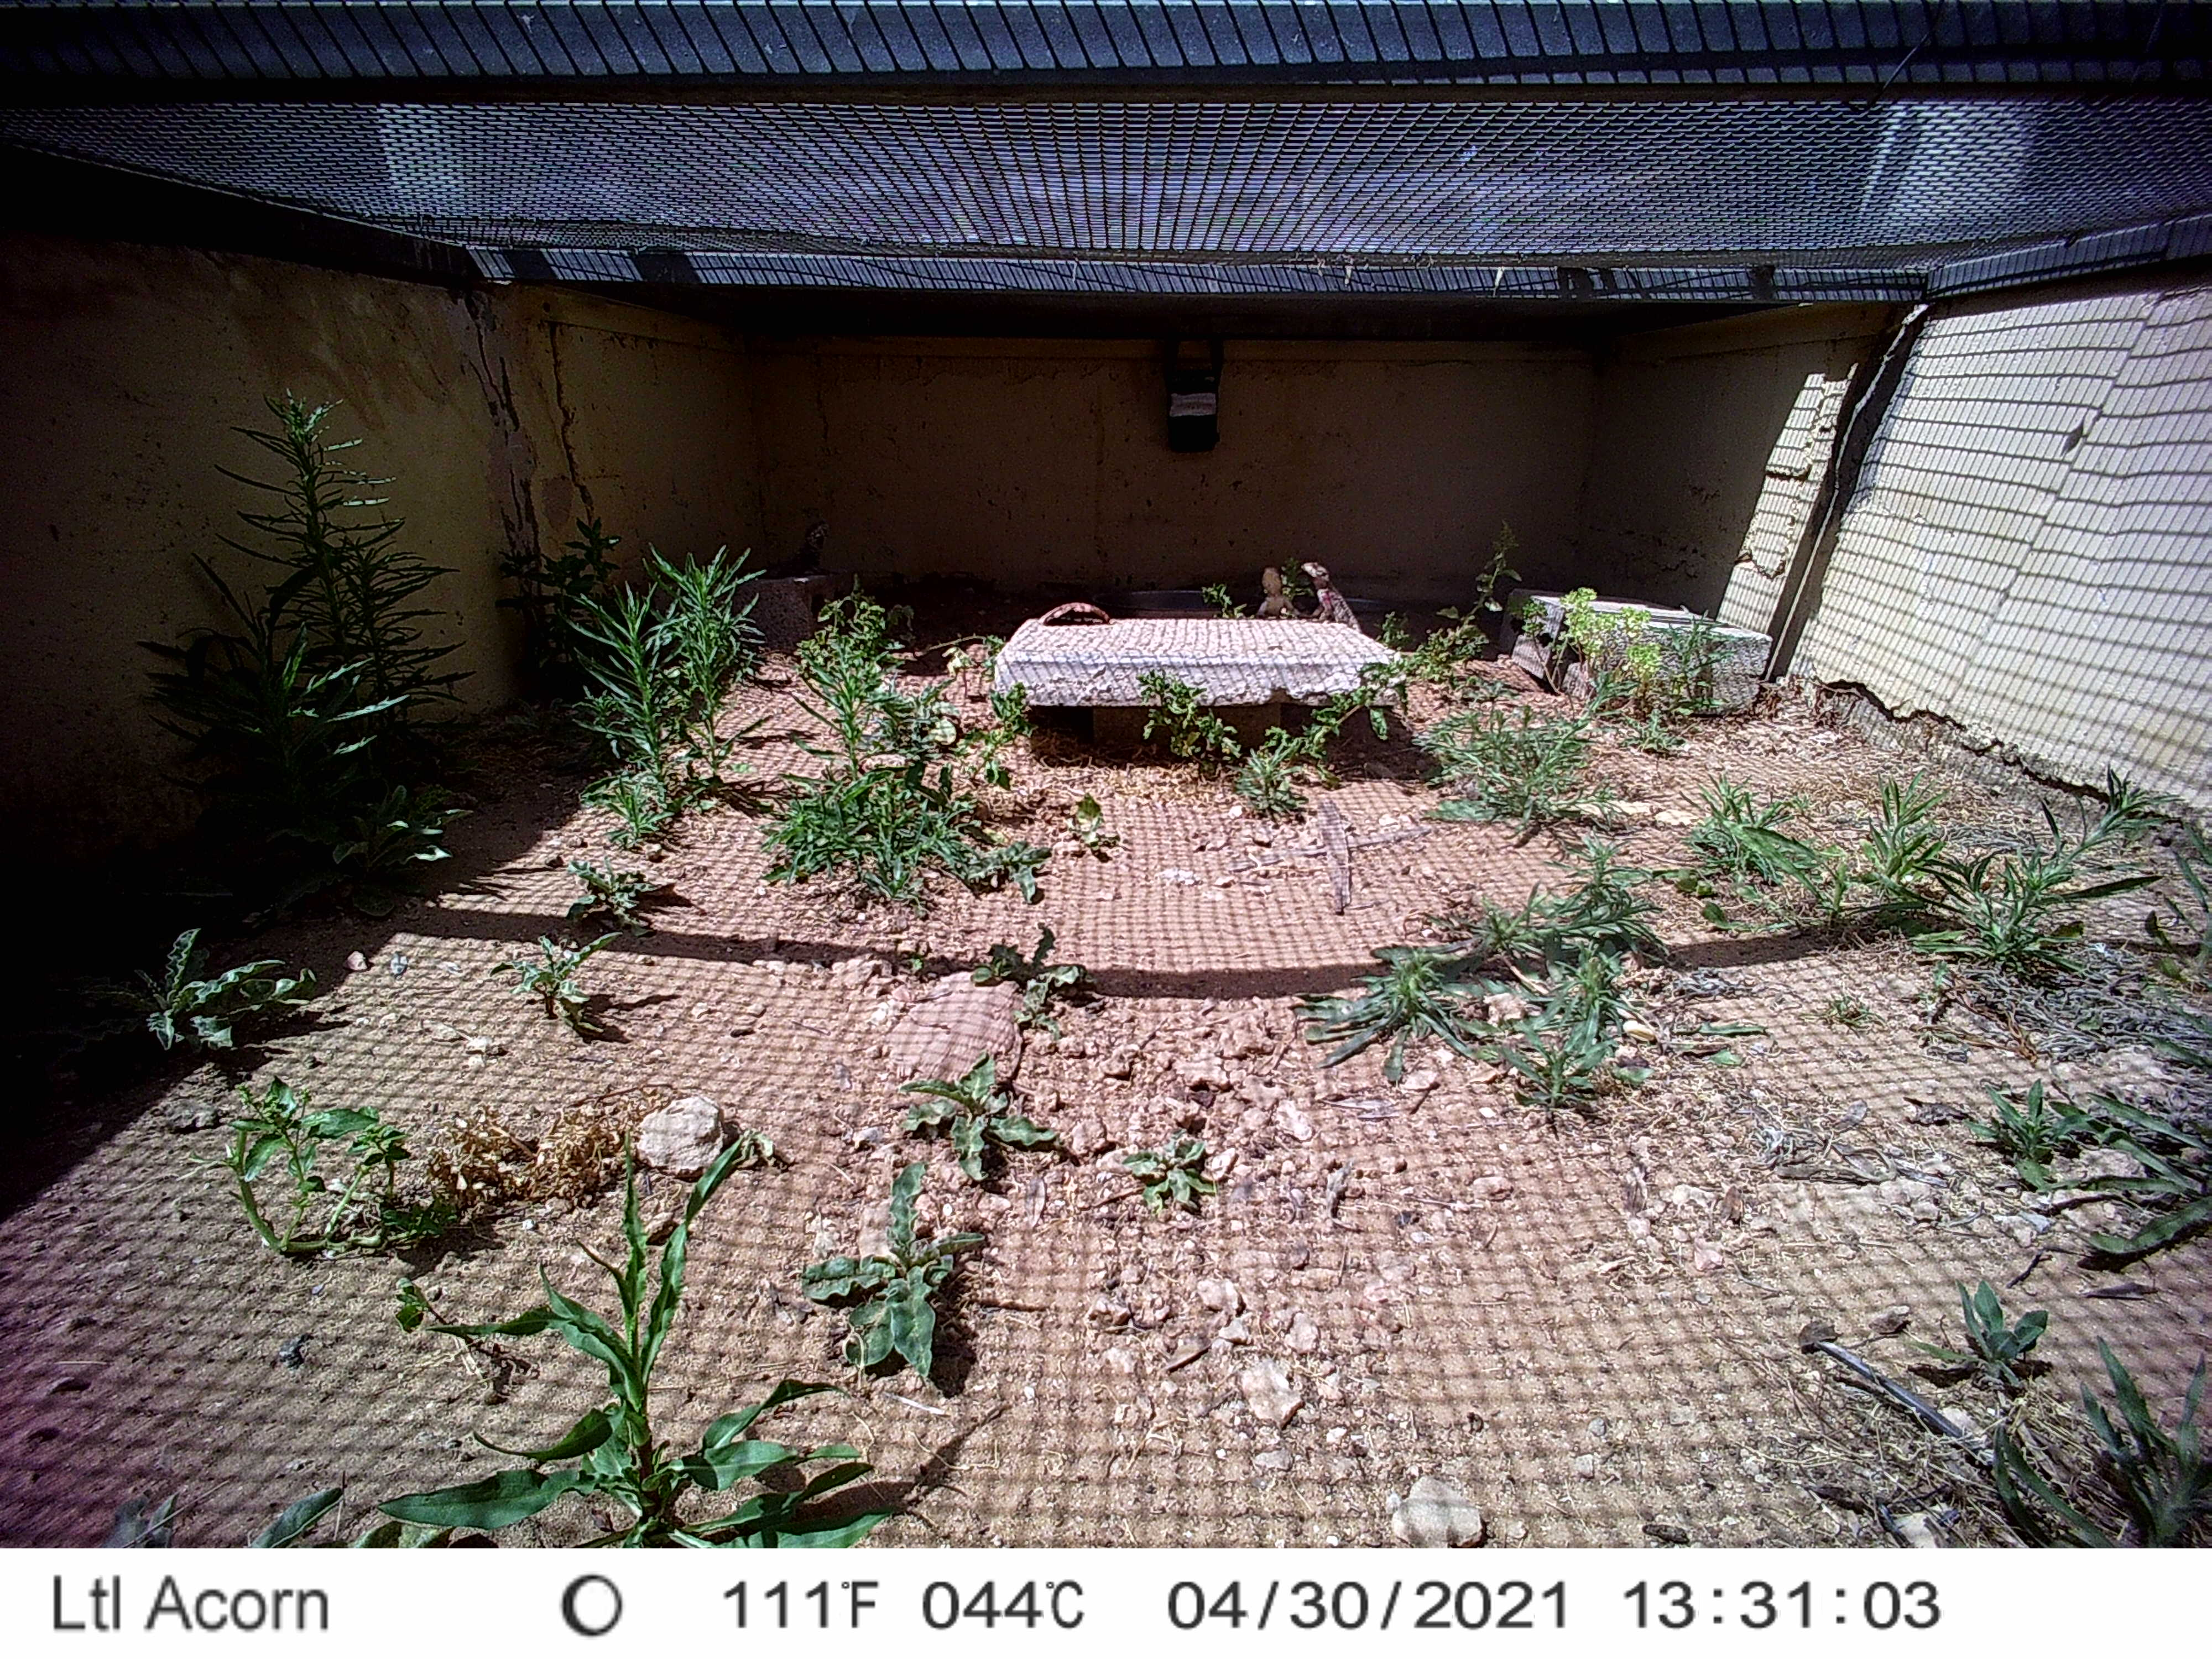lizard: (1298, 559, 1366, 633), (758, 519, 833, 575), (1256, 565, 1298, 619)
